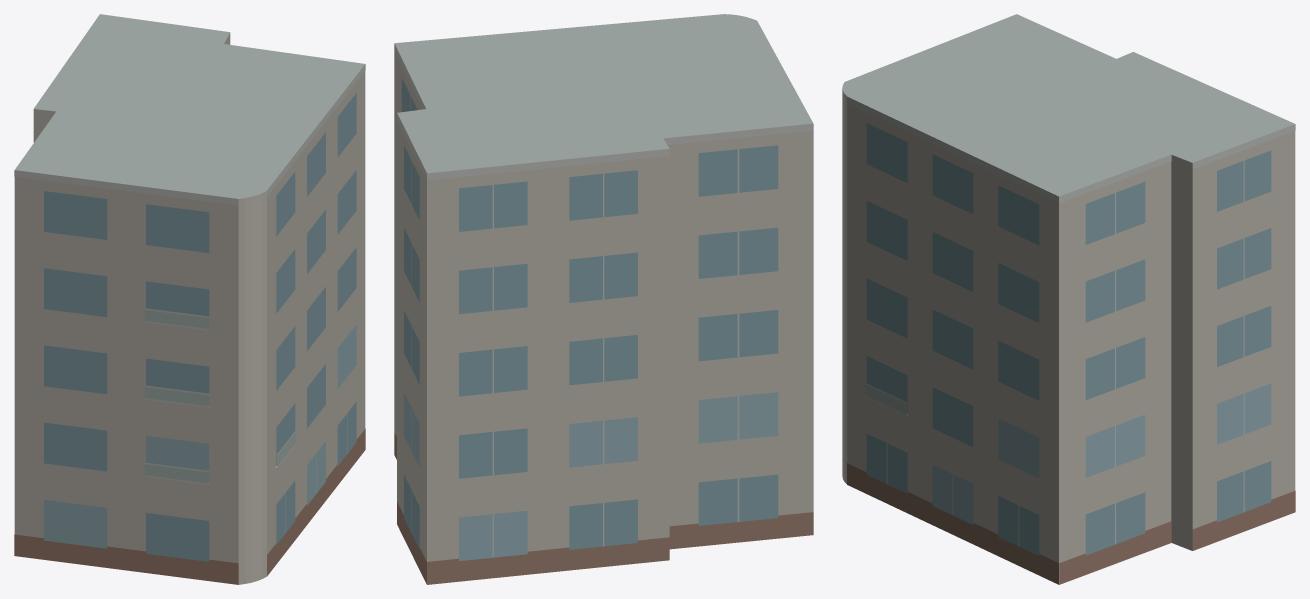
Rendered from survey-upis-32811999.glb.
3 renders of one model, left to right at view 1: azimuth 30°, elevation 25°; view 2: azimuth 150°, elevation 25°; view 3: azimuth 270°, elevation 25°, orthographic. The views are drawn at different scales.
Visible parts, largest first — view 1: survey-upis-32811999.tmp; view 2: survey-upis-32811999.tmp; view 3: survey-upis-32811999.tmp.
Part boxes in pixels (box(x1,y1,x2,y2)): survey-upis-32811999.tmp: box(14, 14, 365, 584); survey-upis-32811999.tmp: box(394, 14, 813, 584); survey-upis-32811999.tmp: box(842, 14, 1295, 584).
Size of the model in its own units: 14.23 by 14.1 by 14.92.
